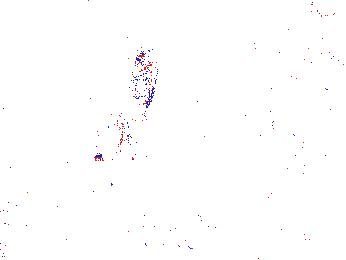X-ray fish: (107, 44, 161, 173)
